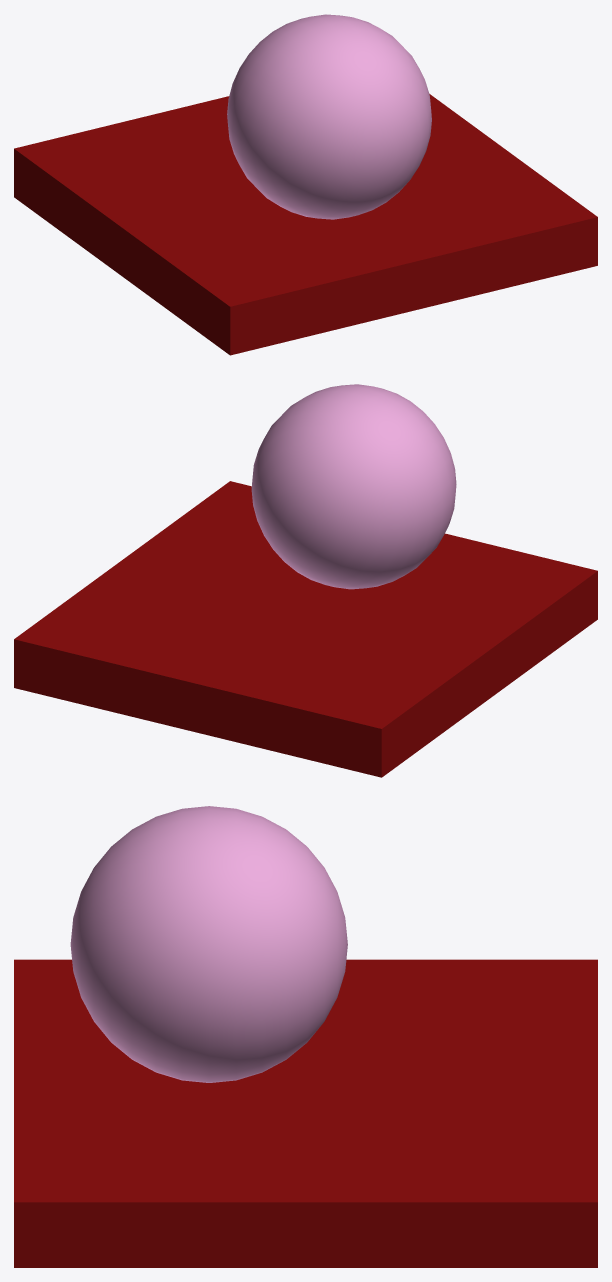
The picture shows the model from 3 angles, top to bottom: view 1: azimuth 30°, elevation 25°; view 2: azimuth 150°, elevation 25°; view 3: azimuth 270°, elevation 25°; orthographic projection. The views are drawn at different scales.
Visible parts, largest first — view 1: Box001, Sphere001; view 2: Box001, Sphere001; view 3: Box001, Sphere001.
Boxes of the visible parts, bbox=[...] form: Box001: bbox=[14, 94, 597, 355]; Sphere001: bbox=[227, 14, 431, 219]; Box001: bbox=[14, 481, 597, 777]; Sphere001: bbox=[251, 384, 456, 589]; Box001: bbox=[14, 959, 597, 1267]; Sphere001: bbox=[70, 806, 347, 1082].
Size of the model in its own units: 151 by 154 by 92.85.
